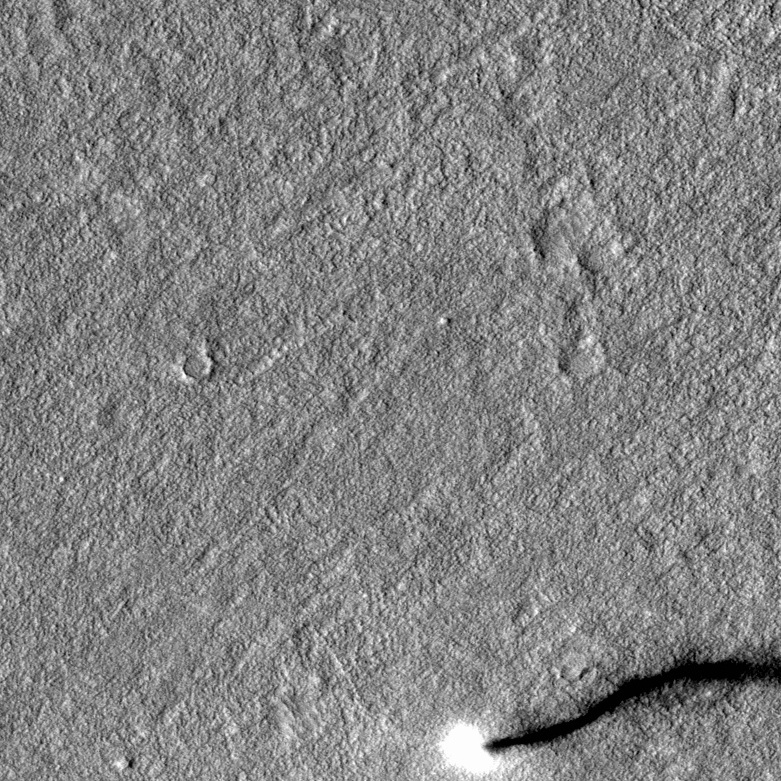dust_devil: (434, 644, 781, 779)
